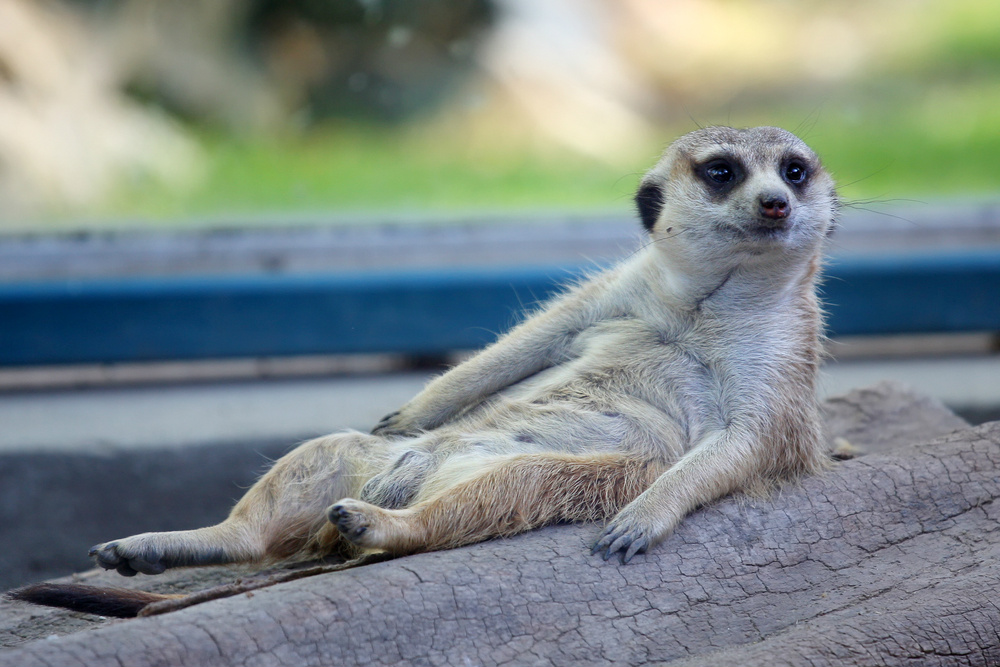meerkat: (97, 105, 913, 597)
